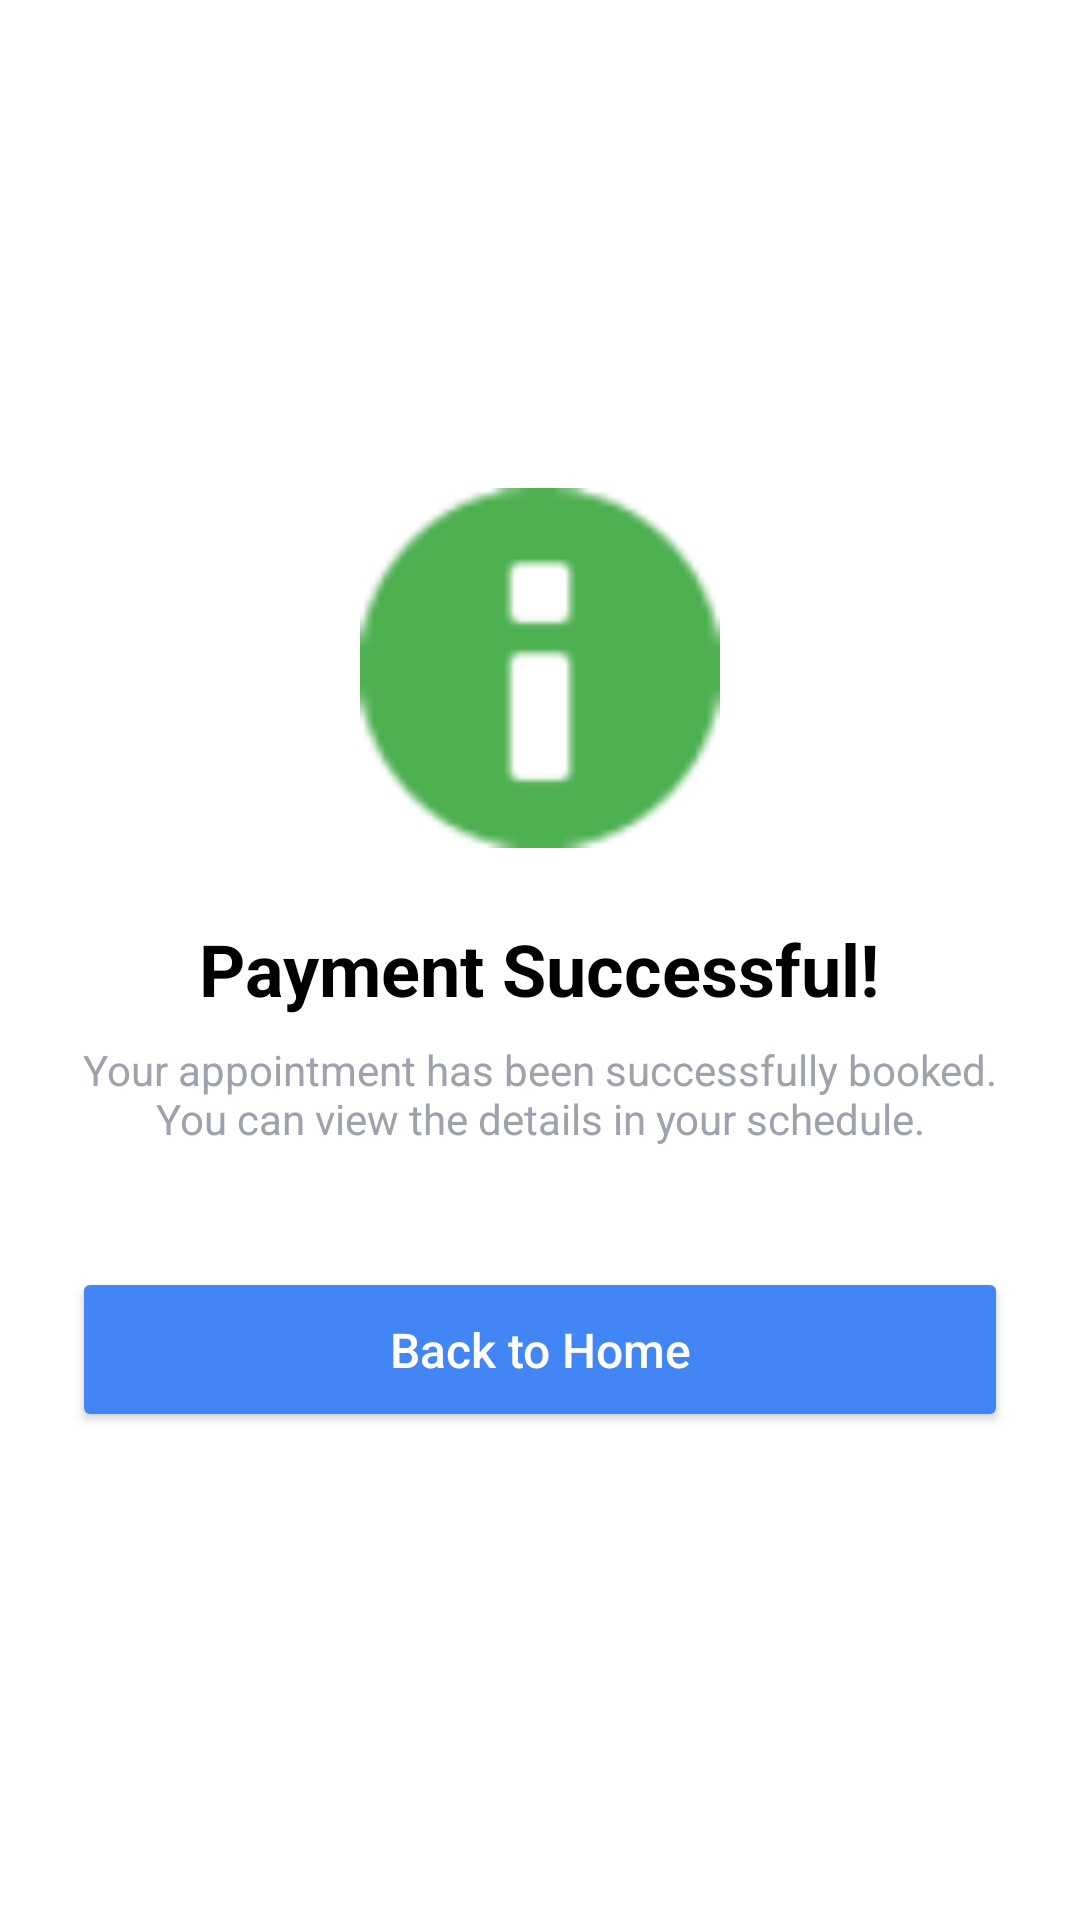

Where icons sit on this 1080w x 1920h app screen, as (x1, y1, x2, y2):
info: (360, 488, 720, 848)
